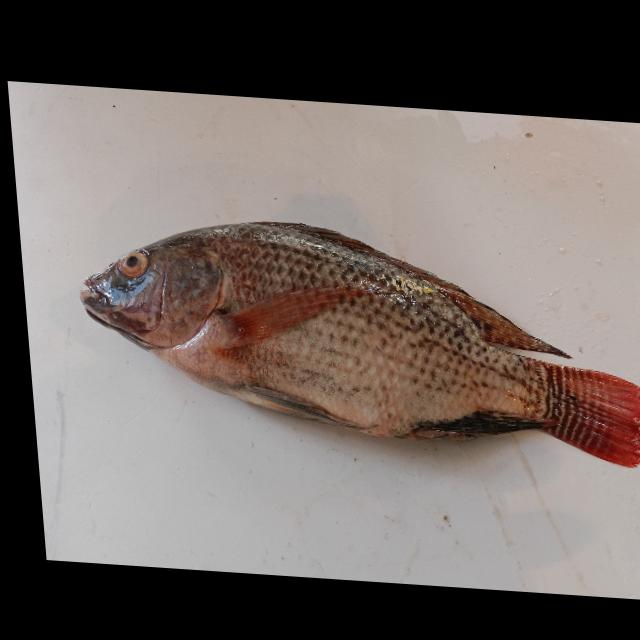Tilapia: (71, 207, 640, 470)
